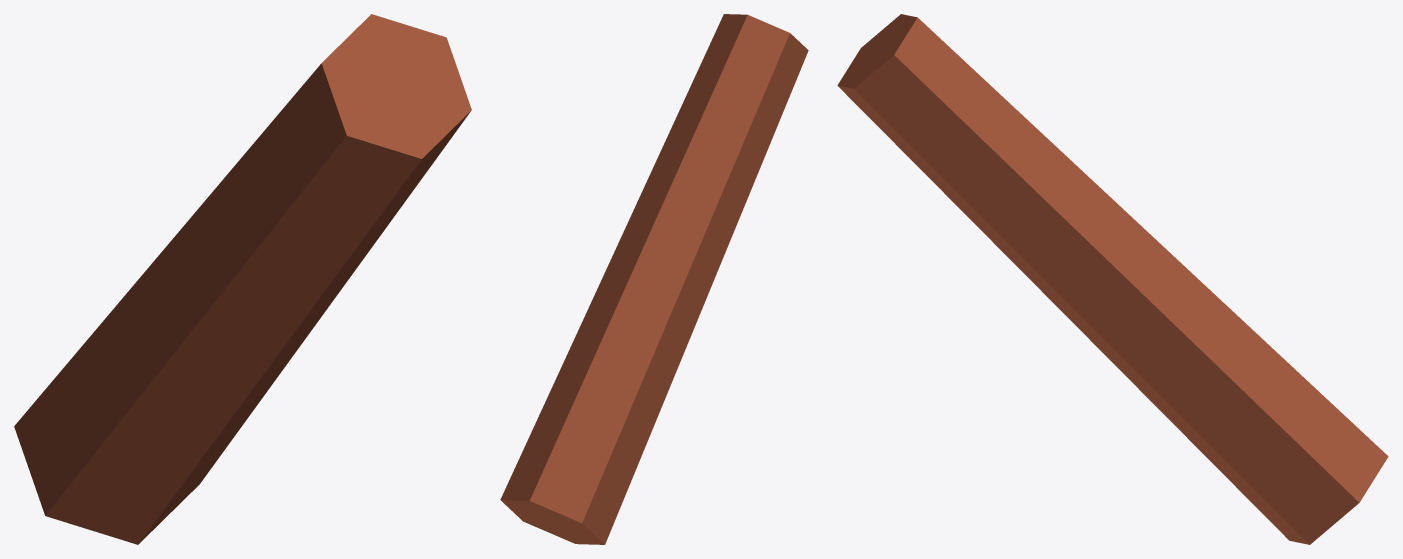
The model's file is rm2_arm_r_fore.obj.
The picture shows the model from 3 angles, left to right: view 1: azimuth 30°, elevation 25°; view 2: azimuth 150°, elevation 25°; view 3: azimuth 270°, elevation 25°; orthographic projection. The views are drawn at different scales.
Visible parts, largest first — view 1: rm2_arm_r_fore; view 2: rm2_arm_r_fore; view 3: rm2_arm_r_fore.
Part boxes in pixels (x1,y1,x2,y2): rm2_arm_r_fore: (14,14,471,544); rm2_arm_r_fore: (500,14,808,544); rm2_arm_r_fore: (837,14,1388,544).
Bounding box in the file's own units: 0.0876 × 0.3429 × 0.3345.
